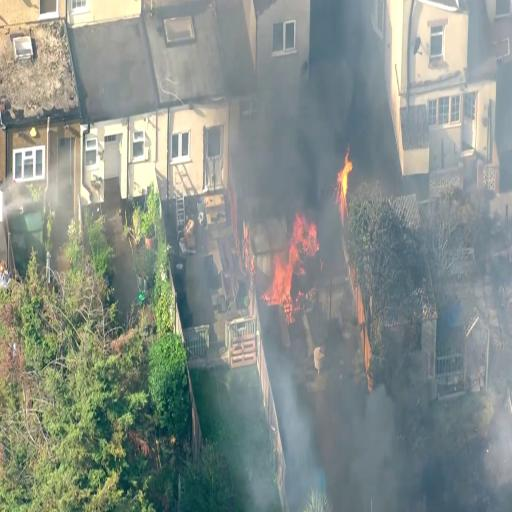fire: (260, 214, 315, 304)
